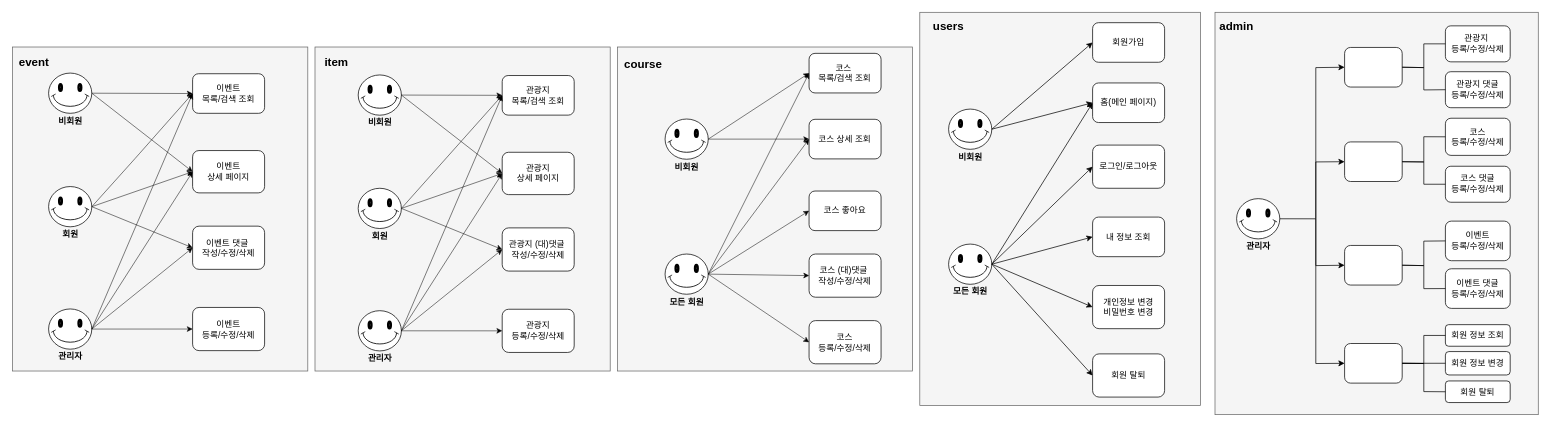
The diagram is 1551 pixels wide and 428 high, and some of its shapes have lost their labels. Each missing label, with the box of its shape:
관광지 관리: (1344, 47, 1402, 87)
이벤트 관리: (1344, 245, 1402, 285)
코스 관리: (1344, 141, 1402, 182)
회원 관리: (1344, 343, 1402, 383)
